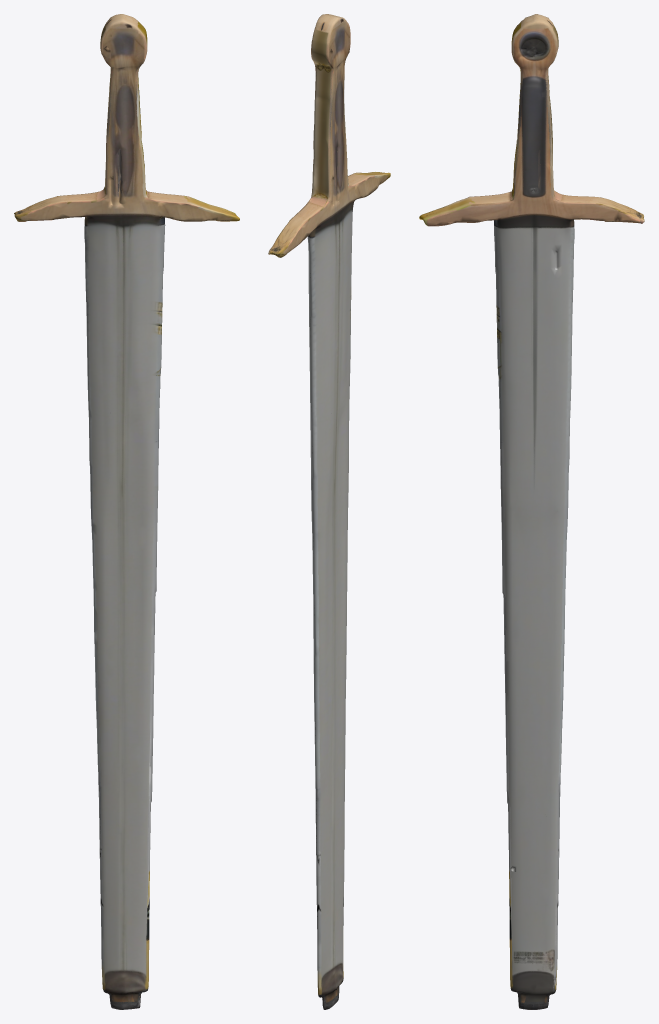
Rendered from Silver_Blade_0729033527_texture.fbx.
3 views of the same model, side by side, from view 1: azimuth 90°, elevation 25°; view 2: azimuth 150°, elevation 25°; view 3: azimuth 270°, elevation 25° (orthographic).
Parts seen in each view (by area): view 1: input; view 2: input; view 3: input.
Boxes of the visible parts, <box> form: input: <box>14,14,239,1009</box>; input: <box>268,14,390,1009</box>; input: <box>419,14,644,1009</box>.
Bounding box in the file's own units: 4.42 × 200 × 41.23.
1 material, 1 textured.
